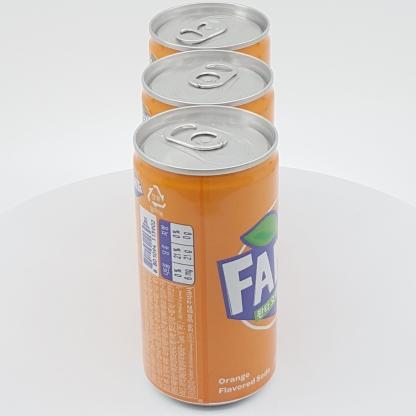-------185ML: (133, 105, 279, 406)
